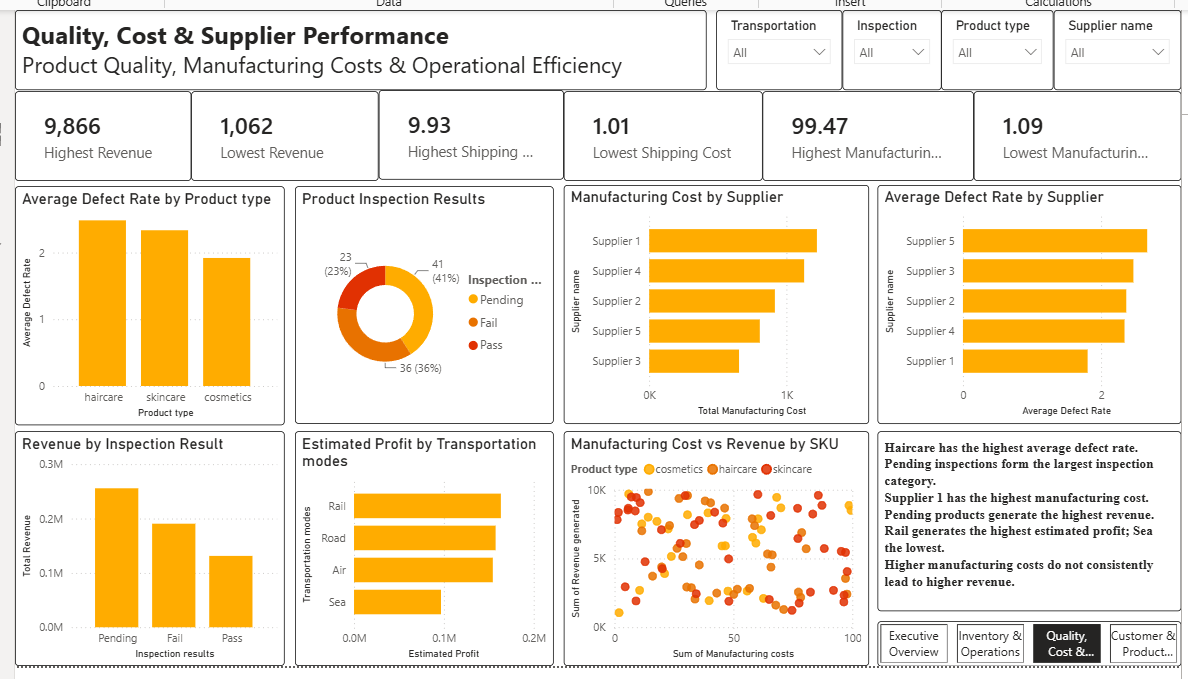

The dashboard page shown, as its layout file describes it:
{"tool":"powerbi","page":{"name":"Quality, Cost & Supplier Analysis","canvas":[1280,720],"ordinal":2},"visuals":[{"type":"cardVisual","fields":{"Data":["Fact_supplychain.Highest Revenue"]},"box":[0,89.2,193.5,98.8],"z":0},{"type":"cardVisual","fields":{"Data":["Fact_supplychain.Lowest Revenue"]},"box":[193.5,89.2,205.8,98.8],"z":1000},{"type":"cardVisual","fields":{"Data":["Fact_supplychain.Highest Shipping Cost"]},"box":[399.3,87.8,203.1,98.8],"z":2000},{"type":"cardVisual","fields":{"Data":["Fact_supplychain.Lowest Shipping Cost"]},"box":[602.4,89.2,218.2,98.8],"z":3000},{"type":"cardVisual","fields":{"Data":["Fact_supplychain.Highest Manufacturing Cost"]},"box":[820.6,89.2,231.9,98.8],"z":4000},{"type":"cardVisual","fields":{"Data":["Fact_supplychain.Lowest Manufacturing Cost"]},"box":[1052.2,89.2,227.8,98.8],"z":5000},{"type":"slicer","fields":{"Values":["Fact_supplychain.Supplier name"]},"box":[1140.3,0,140,87.8],"z":6000},{"type":"slicer","fields":{"Values":["Fact_supplychain.Product type"]},"box":[1016.8,0,123.5,87.8],"z":7000},{"type":"slicer","fields":{"Values":["Fact_supplychain.Inspection results"]},"box":[908.4,0,108.4,87.8],"z":8000},{"type":"slicer","fields":{"Values":["Fact_supplychain.Transportation modes"]},"box":[769.8,0,138.6,87.8],"z":9000},{"type":"clusteredColumnChart","fields":{"Category":["Fact_supplychain.Product type"],"Y":["Fact_supplychain.Average Defect Rate"]},"box":[0,193.5,296.4,262.1],"z":10000},{"type":"clusteredColumnChart","title":"Revenue by Inspection Result","fields":{"Category":["Fact_supplychain.Inspection results"],"Y":["Fact_supplychain.Total Revenue"]},"box":[0,462.4,296.4,258],"z":11000},{"type":"donutChart","title":"Product Inspection Results","fields":{"Category":["Fact_supplychain.Inspection results"],"Y":["Fact_supplychain.Total Products"]},"box":[307.4,193.5,284,260.7],"z":12000},{"type":"clusteredBarChart","fields":{"Category":["Fact_supplychain.Transportation modes"],"Y":["Fact_supplychain.Estimated Profit"]},"box":[307.4,462.4,284,258],"z":13000},{"type":"clusteredBarChart","title":"Manufacturing Cost by Supplier","fields":{"Category":["Fact_supplychain.Supplier name"],"Y":["Fact_supplychain.Total Manufacturing Cost"]},"box":[602.4,192.1,334.8,262.1],"z":14000},{"type":"scatterChart","title":"Manufacturing Cost vs Revenue by SKU","fields":{"X":["Sum(Fact_supplychain.Manufacturing costs)"],"Y":["Sum(Fact_supplychain.Revenue generated)"],"Series":["Fact_supplychain.Product type"],"Category":["Fact_supplychain.SKU"]},"box":[602.4,462.4,334.8,258],"z":15000},{"type":"pageNavigator","box":[946.8,671,333.4,49.4],"z":16000},{"type":"textbox","box":[946.8,462.4,333.4,197.6],"z":16001},{"type":"textbox","box":[0,0,758.8,87.8],"z":16002},{"type":"clusteredBarChart","title":"Average Defect Rate by Supplier","fields":{"Category":["Fact_supplychain.Supplier name"],"Y":["Fact_supplychain.Average Defect Rate"]},"box":[946.8,192.1,333.4,262.1],"z":16003}]}

Visuals, with their boxes in screenshot pixels (x1, y1, x2, y2):
cardVisual - Fact_supplychain.Highest Revenue: (9, 88, 186, 178)
cardVisual - Fact_supplychain.Lowest Revenue: (186, 88, 375, 178)
cardVisual - Fact_supplychain.Highest Shipping Cost: (375, 87, 561, 177)
cardVisual - Fact_supplychain.Lowest Shipping Cost: (561, 88, 760, 178)
cardVisual - Fact_supplychain.Highest Manufacturing Cost: (760, 88, 973, 178)
cardVisual - Fact_supplychain.Lowest Manufacturing Cost: (972, 88, 1181, 178)
slicer - Fact_supplychain.Supplier name: (1053, 6, 1181, 87)
slicer - Fact_supplychain.Product type: (940, 6, 1053, 87)
slicer - Fact_supplychain.Inspection results: (841, 6, 940, 87)
slicer - Fact_supplychain.Transportation modes: (714, 6, 841, 87)
clusteredColumnChart - Fact_supplychain.Product type x Fact_supplychain.Average Defect Rate: (9, 183, 281, 423)
"Revenue by Inspection Result" clusteredColumnChart: (9, 429, 281, 666)
"Product Inspection Results" donutChart: (291, 183, 551, 422)
clusteredBarChart - Fact_supplychain.Transportation modes x Fact_supplychain.Estimated Profit: (291, 429, 551, 666)
"Manufacturing Cost by Supplier" clusteredBarChart: (561, 182, 867, 422)
"Manufacturing Cost vs Revenue by SKU" scatterChart: (561, 429, 867, 666)
pageNavigator: (876, 620, 1181, 666)
textbox: (876, 429, 1181, 610)
textbox: (9, 6, 704, 87)
"Average Defect Rate by Supplier" clusteredBarChart: (876, 182, 1181, 422)
